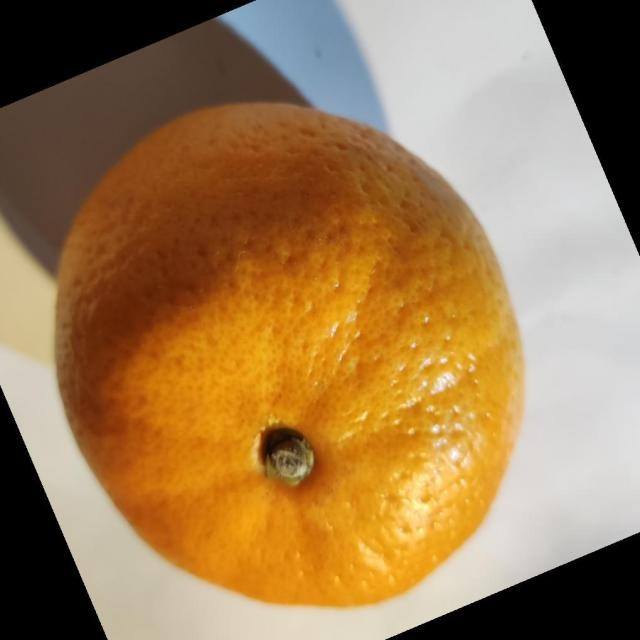agrume: (52, 99, 527, 609)
